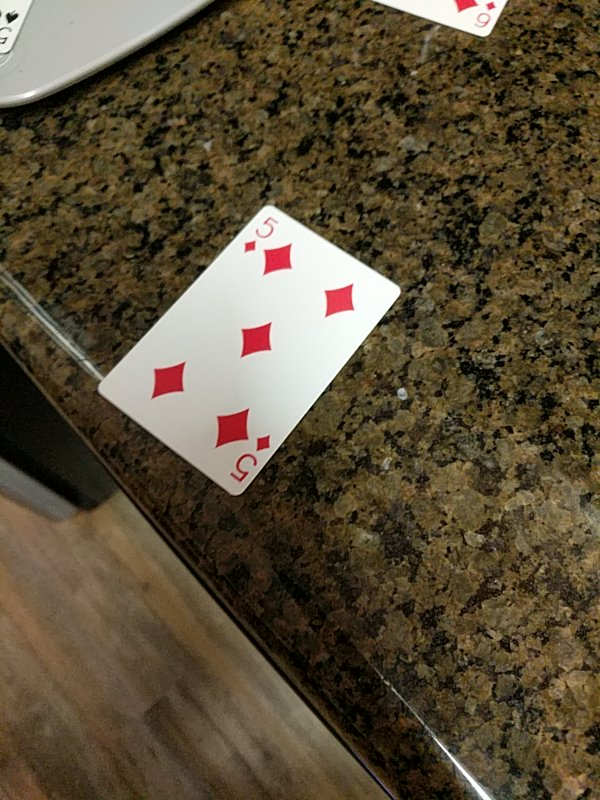Diamonds: (94, 203, 400, 499)
